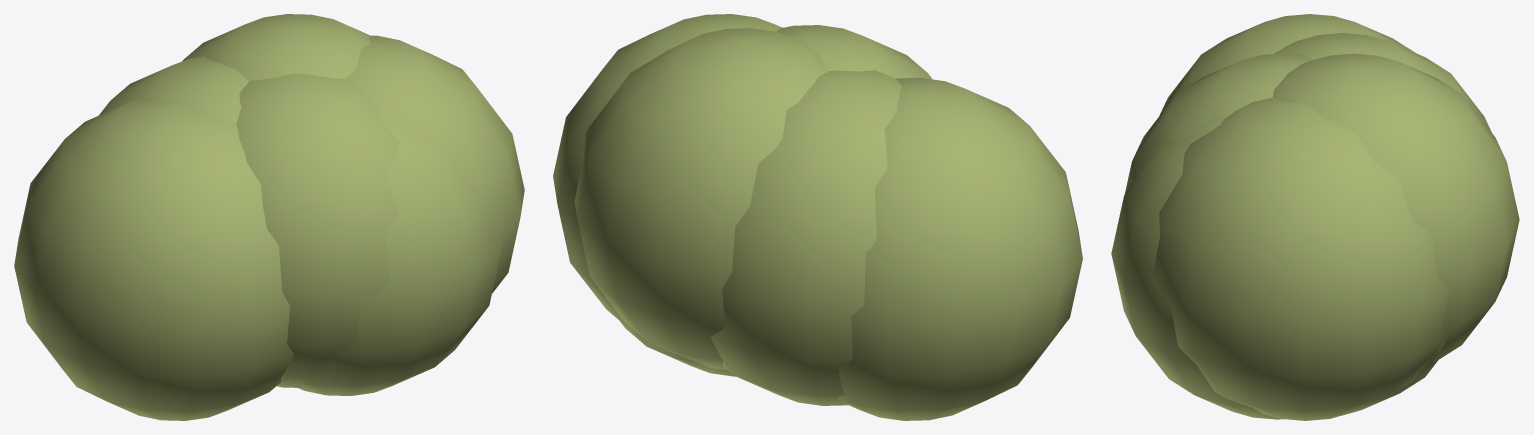
Rendered from Asset3CG.glb.
The picture shows the model from 3 angles, left to right: view 1: azimuth 30°, elevation 25°; view 2: azimuth 150°, elevation 25°; view 3: azimuth 270°, elevation 25°; orthographic projection. The views are drawn at different scales.
Parts seen in each view (by area): view 1: Busch_6, Bruno der Busch, Busch_3, Busch_2, Busch_4, Busch_5; view 2: Busch_6, Busch_4, Busch_5, Busch_2, Bruno der Busch, Busch_1; view 3: Busch_2, Busch_4, Busch_3, Bruno der Busch, Busch_6, Busch_5, Busch_1.
Part boxes in pixels (bbox=[...]): Busch_6: bbox=[14, 97, 293, 420]; Bruno der Busch: bbox=[236, 73, 399, 388]; Busch_3: bbox=[298, 109, 502, 395]; Busch_2: bbox=[346, 35, 524, 293]; Busch_4: bbox=[182, 14, 370, 80]; Busch_5: bbox=[99, 56, 248, 125]; Busch_6: bbox=[837, 77, 1082, 420]; Busch_4: bbox=[574, 28, 828, 370]; Busch_5: bbox=[711, 70, 902, 405]; Busch_2: bbox=[553, 14, 782, 326]; Bruno der Busch: bbox=[776, 25, 932, 79]; Busch_1: bbox=[607, 299, 735, 376]; Busch_2: bbox=[1151, 97, 1448, 420]; Busch_4: bbox=[1272, 53, 1519, 362]; Busch_3: bbox=[1111, 116, 1283, 419]; Bruno der Busch: bbox=[1125, 53, 1313, 193]; Busch_6: bbox=[1159, 14, 1415, 115]; Busch_5: bbox=[1274, 33, 1491, 132]; Busch_1: bbox=[1348, 341, 1445, 413].
Size of the model in its own units: 3.94 by 2.63 by 2.95.
